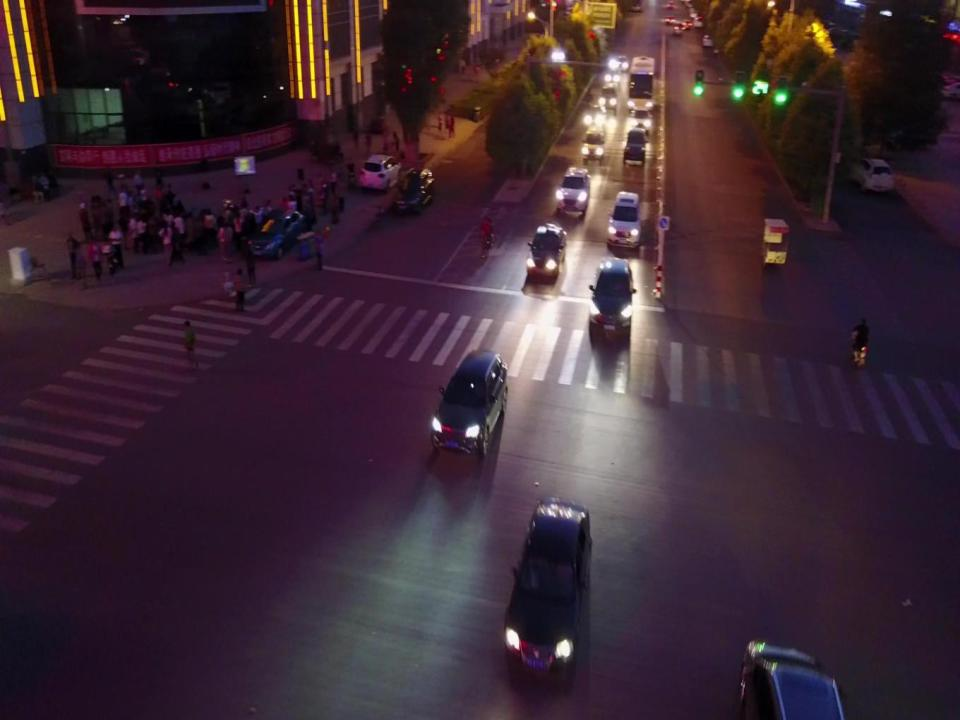bus: (627, 56, 655, 113)
car: (503, 498, 592, 686), (739, 639, 846, 720), (432, 349, 508, 461), (588, 259, 635, 346), (247, 209, 306, 259), (526, 224, 568, 279), (391, 168, 434, 214), (607, 191, 641, 248), (555, 166, 590, 214), (360, 153, 402, 192), (850, 158, 893, 194), (580, 124, 605, 163), (623, 128, 645, 162), (938, 75, 960, 99), (584, 105, 607, 127), (841, 31, 865, 51), (822, 22, 845, 36), (824, 26, 848, 38), (603, 69, 620, 83), (615, 55, 628, 72), (702, 35, 714, 47), (673, 21, 682, 35), (693, 17, 703, 28), (682, 19, 691, 29), (665, 16, 675, 25), (689, 9, 698, 18), (666, 0, 674, 8), (684, 0, 693, 7)
van: (599, 83, 618, 113)
